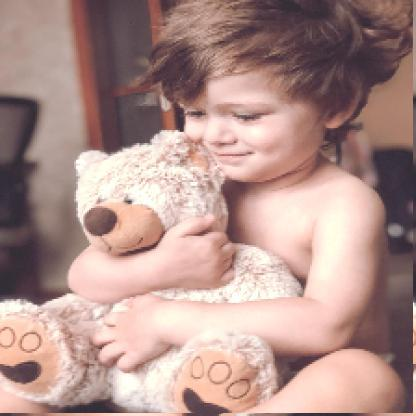child: (1, 1, 415, 415)
